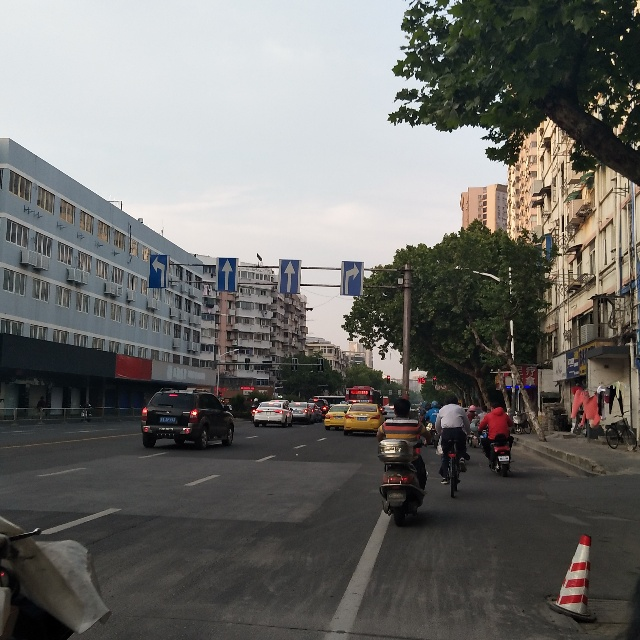left: (149, 252, 167, 289)
right: (344, 261, 363, 297)
straight: (279, 258, 301, 299), (216, 257, 237, 290)
